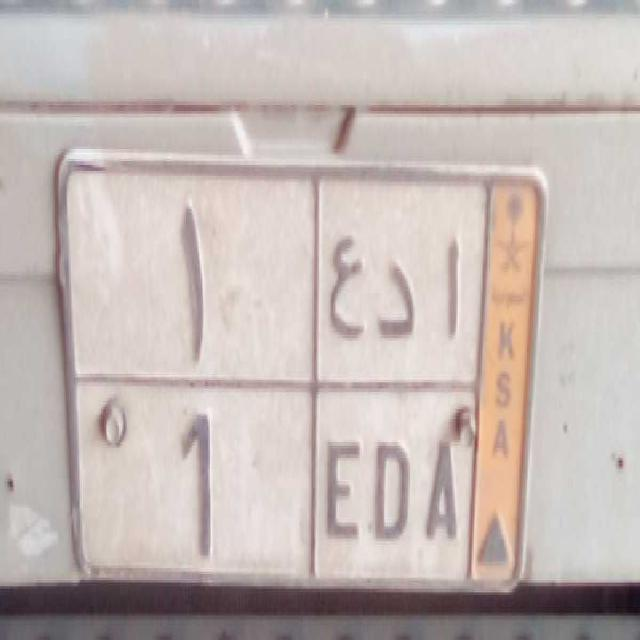license_plate: (73, 378, 474, 600)
